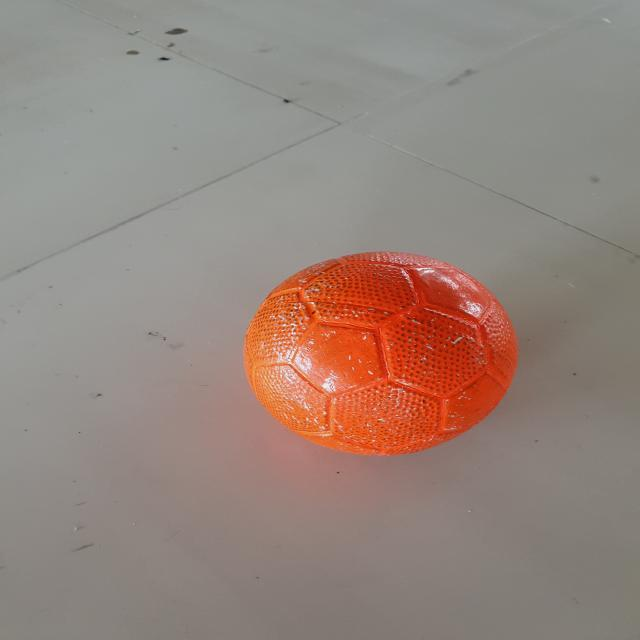bola: (235, 247, 525, 462)
